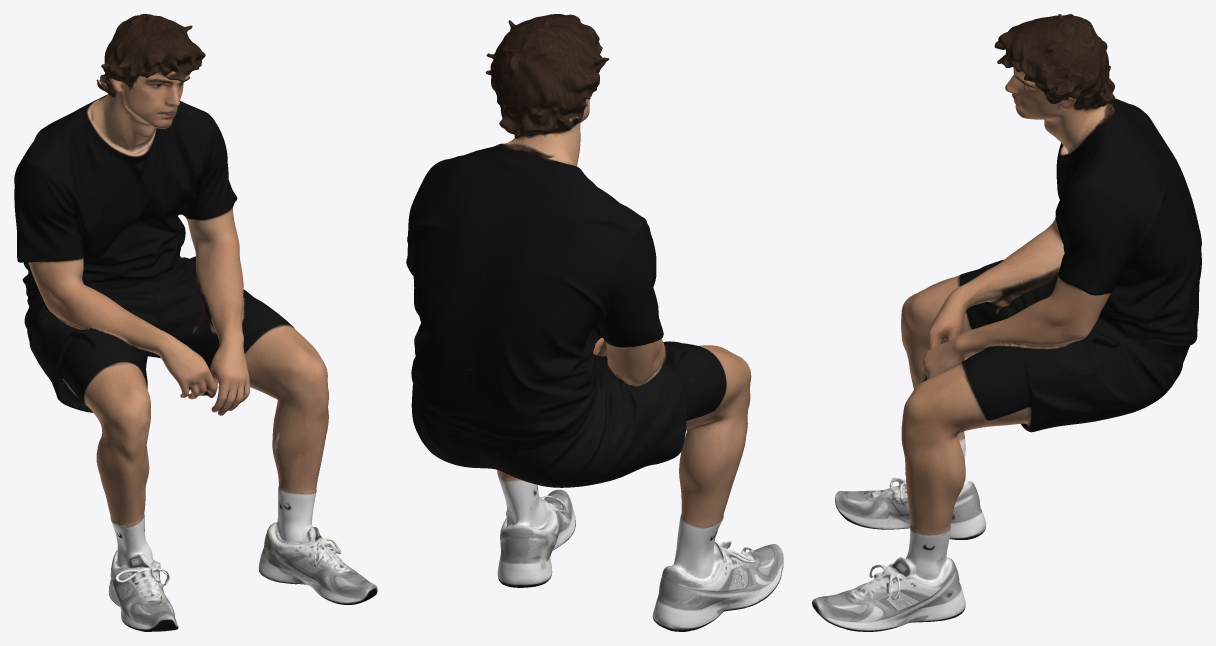
File: PersonaCasual.fbx
The picture shows the model from 3 angles, left to right: view 1: azimuth 30°, elevation 25°; view 2: azimuth 150°, elevation 25°; view 3: azimuth 270°, elevation 25°; orthographic projection. The views are drawn at different scales.
Parts seen in each view (by area): view 1: Mesh_0; view 2: Mesh_0; view 3: Mesh_0.
Boxes of the visible parts, left/top/right/bottom form: Mesh_0: left=14, top=14, right=377, bottom=631; Mesh_0: left=406, top=14, right=783, bottom=631; Mesh_0: left=812, top=14, right=1201, bottom=631.
Size of the model in its own units: 87.26 by 190 by 120.
1 material, 1 textured.
